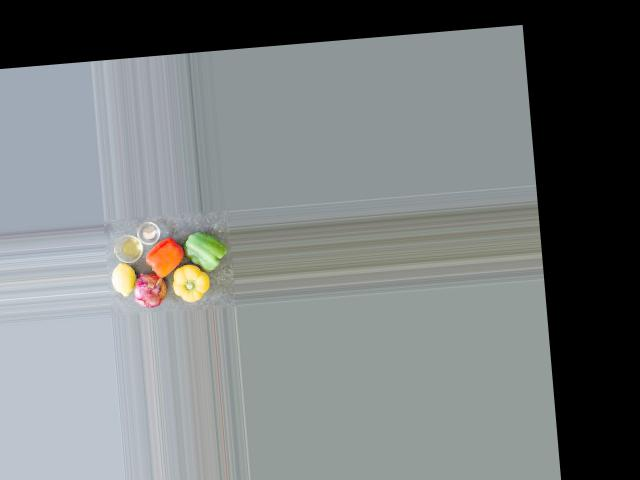bell_pepper: (144, 235, 185, 279)
